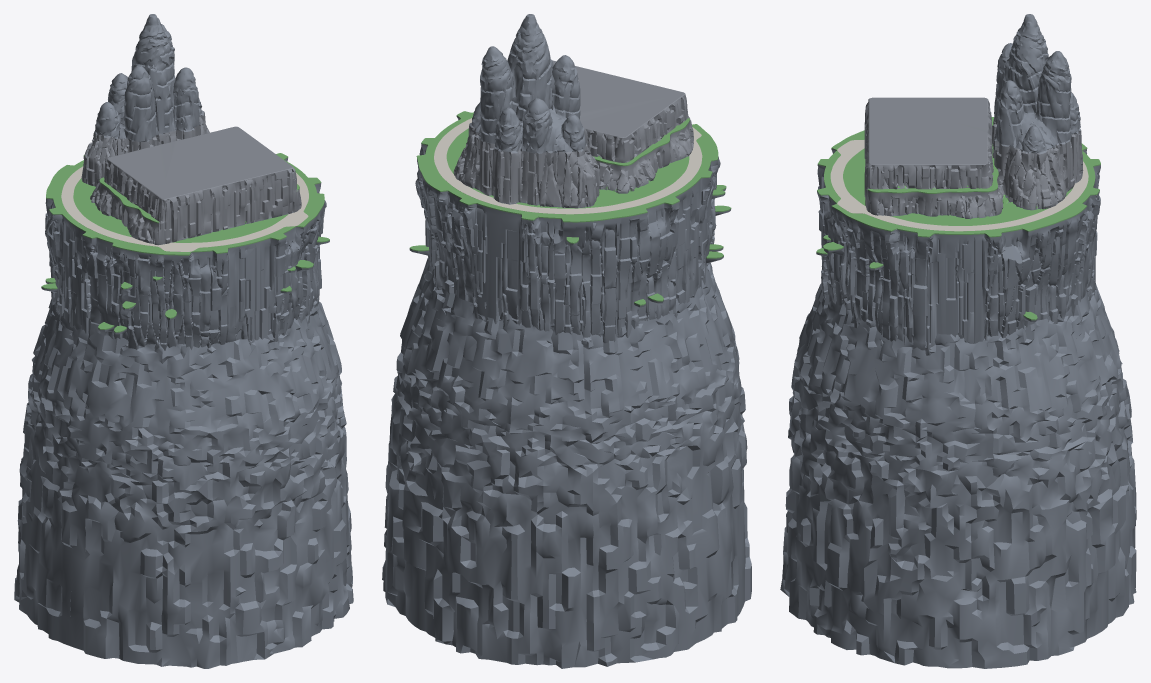
Rendered from MainPeakRock.fbx.
3 views of the same model, side by side, from view 1: azimuth 30°, elevation 25°; view 2: azimuth 150°, elevation 25°; view 3: azimuth 270°, elevation 25° (orthographic). The views are drawn at different scales.
Visible parts, largest first — view 1: MainRockBase, MainRockCliffB, MainRockMesa, MainRockSpire, MainRockCliffA, MainGrass, MainPath; view 2: MainRockBase, MainRockCliffC, MainRockMesa, MainRockSpire, MainRockCliffB, MainGrass, MainPath; view 3: MainRockBase, MainRockCliffA, MainRockMesa, MainRockSpire, MainRockCliffC, MainGrass, MainPath.
Boxes of the visible parts, x1=… form: MainRockBase: x1=14, y1=299, x2=353, y2=668; MainRockCliffB: x1=45, y1=198, x2=253, y2=350; MainRockMesa: x1=81, y1=111, x2=301, y2=244; MainRockSpire: x1=94, y1=14, x2=203, y2=141; MainRockCliffA: x1=229, y1=158, x2=326, y2=344; MainGrass: x1=41, y1=153, x2=329, y2=332; MainPath: x1=61, y1=166, x2=308, y2=251; MainRockBase: x1=382, y1=258, x2=751, y2=668; MainRockCliffC: x1=417, y1=160, x2=646, y2=344; MainRockMesa: x1=453, y1=60, x2=693, y2=207; MainRockSpire: x1=469, y1=14, x2=587, y2=153; MainRockCliffB: x1=615, y1=153, x2=720, y2=321; MainGrass: x1=409, y1=111, x2=731, y2=305; MainPath: x1=434, y1=118, x2=702, y2=214; MainRockBase: x1=780, y1=283, x2=1136, y2=668; MainRockCliffA: x1=817, y1=181, x2=1032, y2=355; MainRockMesa: x1=864, y1=97, x2=1083, y2=218; MainRockSpire: x1=994, y1=14, x2=1080, y2=154; MainRockCliffC: x1=1002, y1=149, x2=1100, y2=331; MainGrass: x1=816, y1=117, x2=1100, y2=320; MainPath: x1=830, y1=140, x2=1088, y2=231.
Size of the model in its own units: 456 by 822 by 458.
